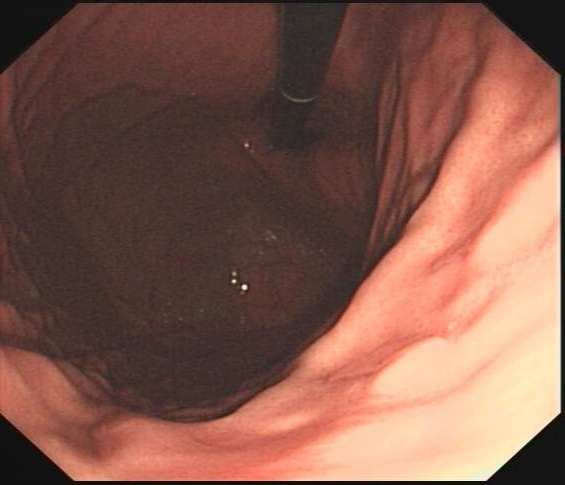Polyp: (361, 328, 457, 407)
